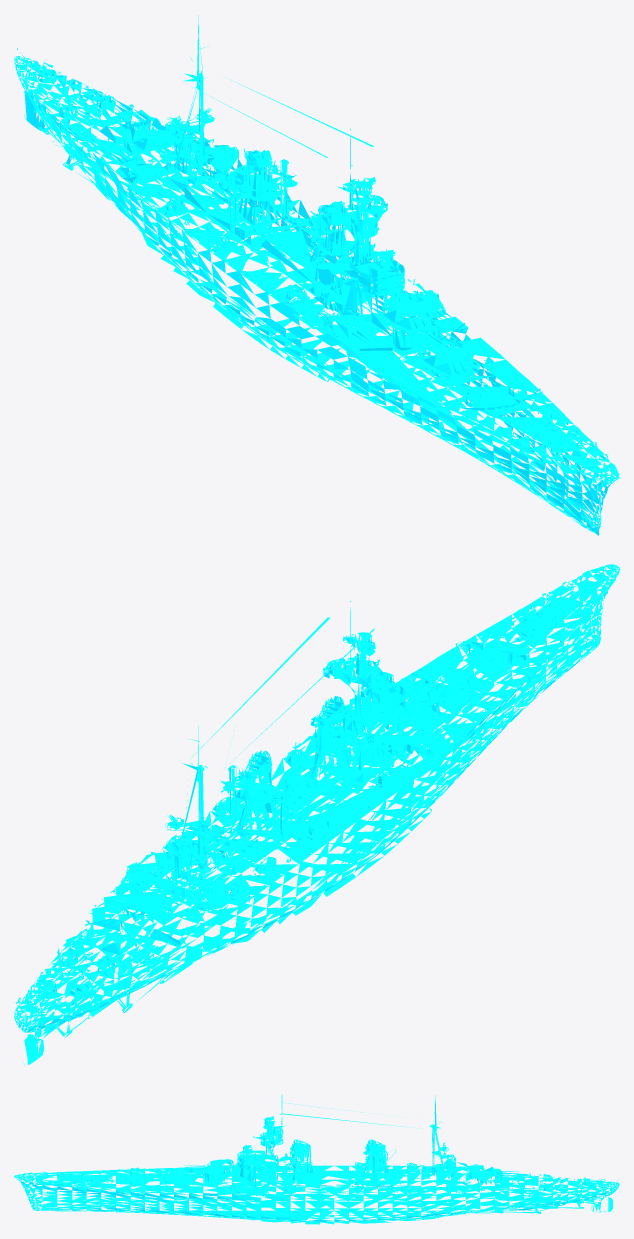
File: PISC510.glb
The picture shows the model from 3 angles, top to bottom: view 1: azimuth 30°, elevation 25°; view 2: azimuth 150°, elevation 25°; view 3: azimuth 270°, elevation 25°; orthographic projection. The views are drawn at different scales.
Parts seen in each view (by area): view 1: hull, turret; view 2: hull, turret; view 3: hull, turret.
Part boxes in pixels (x1,y1,x2,y2): hull: (14, 15, 619, 535); turret: (38, 65, 526, 407); hull: (14, 564, 619, 1065); turret: (38, 639, 527, 998); hull: (14, 1095, 619, 1224); turret: (127, 1142, 593, 1193).
Bounding box in the file's own units: 2.15 × 3.47 × 16.21.
